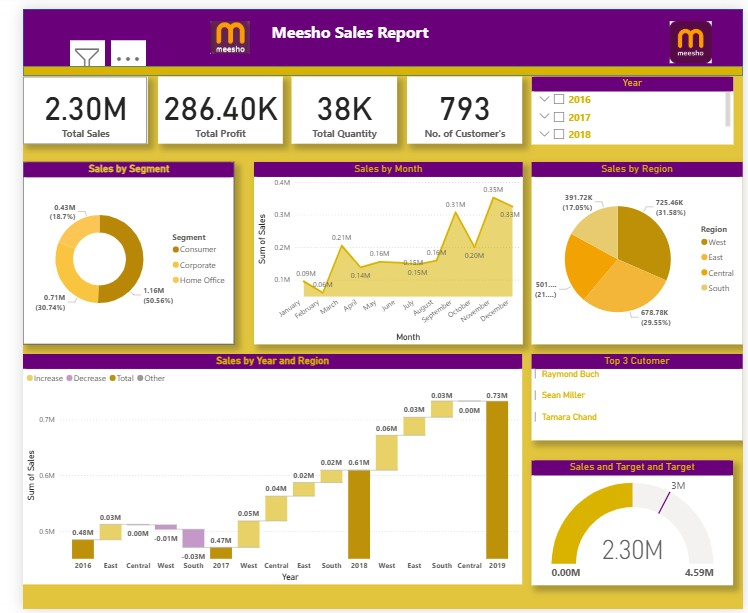

This screenshot's page, from the dashboard's own definition file:
{"tool":"powerbi","page":{"name":"Page 1","canvas":[1200,1000],"ordinal":0},"visuals":[{"type":"donutChart","title":"Sales by Segment","fields":{"Category":["Orders.Segment"],"Y":["Sum(Orders.Sales)"]},"box":[0,256,352,304],"z":0},{"type":"shape","box":[0,0,1200,96],"z":1000},{"type":"textbox","box":[304,16,480,80],"z":2000},{"type":"image","box":[304,16,80,64],"z":3000},{"type":"card","fields":{"Values":["Sum(Orders.Sales)"]},"box":[0,112,208,112],"z":4000},{"type":"shape","box":[0,96,1200,16],"z":5000},{"type":"card","fields":{"Values":["Sum(Orders.Profit)"]},"box":[224,112,208,112],"z":6000},{"type":"card","fields":{"Values":["Sum(Orders.Quantity)"]},"box":[448,112,176,112],"z":7000},{"type":"card","fields":{"Values":["Count(Orders.Customer ID)"]},"box":[640,112,192,112],"z":8000},{"type":"slicer","title":"Year","fields":{"Values":["Orders.Order Date.Variation.Date Hierarchy.Year","Orders.Order Date.Variation.Date Hierarchy.Quarter","Orders.Order Date.Variation.Date Hierarchy.Month","Orders.Order Date.Variation.Date Hierarchy.Day"]},"box":[848,112,336,112],"z":9000},{"type":"areaChart","title":"Sales by Month","fields":{"Category":["Orders.Order Date.Variation.Date Hierarchy.Month"],"Y":["Sum(Orders.Sales)"]},"box":[384,256,448,304],"z":10000},{"type":"pieChart","title":"Sales by Region","fields":{"Y":["Sum(Orders.Sales)"],"Category":["Orders.Region"]},"box":[848,256,352,304],"z":11000},{"type":"waterfallChart","title":"Sales by Year and Region","fields":{"Y":["Sum(Orders.Sales)"],"Category":["Orders.Order Date.Variation.Date Hierarchy.Year","Orders.Order Date.Variation.Date Hierarchy.Quarter","Orders.Order Date.Variation.Date Hierarchy.Month","Orders.Order Date.Variation.Date Hierarchy.Day"],"Breakdown":["Orders.Region"]},"box":[0,576,832,384],"z":12000},{"type":"gauge","fields":{"Y":["Sum(Orders.Sales)"],"TargetValue":["Orders.Target"]},"box":[848,752,336,208],"z":13000},{"type":"multiRowCard","title":"Top 3 Cutomer","fields":{"Values":["Orders.Customer Name"]},"box":[848,576,352,144],"z":14000},{"type":"image","box":[1072,16,80,80],"z":15000}]}

Visuals, with their boxes in screenshot pixels (x1, y1, x2, y2), scaled from the page's 1200x1000 canvas onto the 748x613 screenshot:
"Sales by Segment" donutChart: l=0, t=157, r=219, b=343
shape: l=0, t=0, r=747, b=59
textbox: l=189, t=10, r=489, b=59
image: l=189, t=10, r=239, b=49
card - Sum(Orders.Sales): l=0, t=69, r=130, b=137
shape: l=0, t=59, r=747, b=69
card - Sum(Orders.Profit): l=140, t=69, r=269, b=137
card - Sum(Orders.Quantity): l=279, t=69, r=389, b=137
card - Count(Orders.Customer ID): l=399, t=69, r=519, b=137
"Year" slicer: l=529, t=69, r=738, b=137
"Sales by Month" areaChart: l=239, t=157, r=519, b=343
"Sales by Region" pieChart: l=529, t=157, r=747, b=343
"Sales by Year and Region" waterfallChart: l=0, t=353, r=519, b=588
gauge - Sum(Orders.Sales) x Orders.Target: l=529, t=461, r=738, b=588
"Top 3 Cutomer" multiRowCard: l=529, t=353, r=747, b=441
image: l=668, t=10, r=718, b=59
